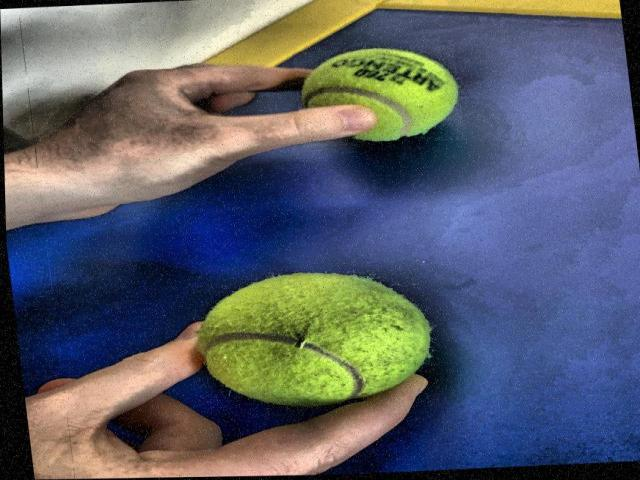tennis-ball: (199, 271, 432, 410), (301, 46, 463, 143)
